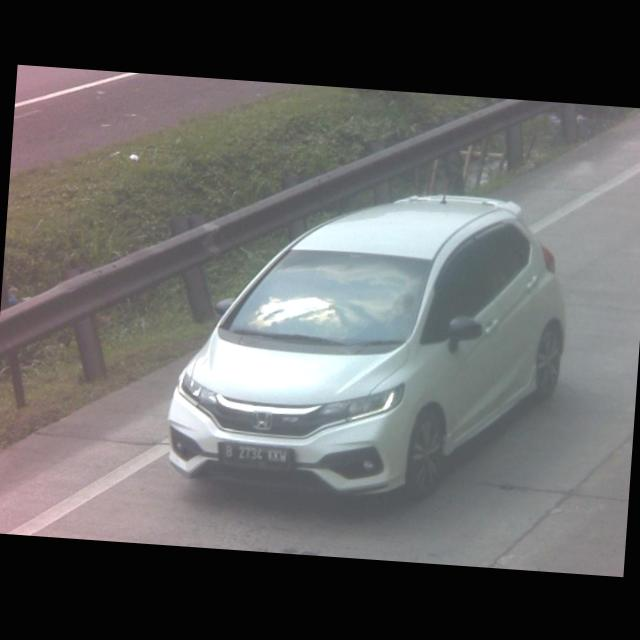plate: (213, 438, 291, 469)
